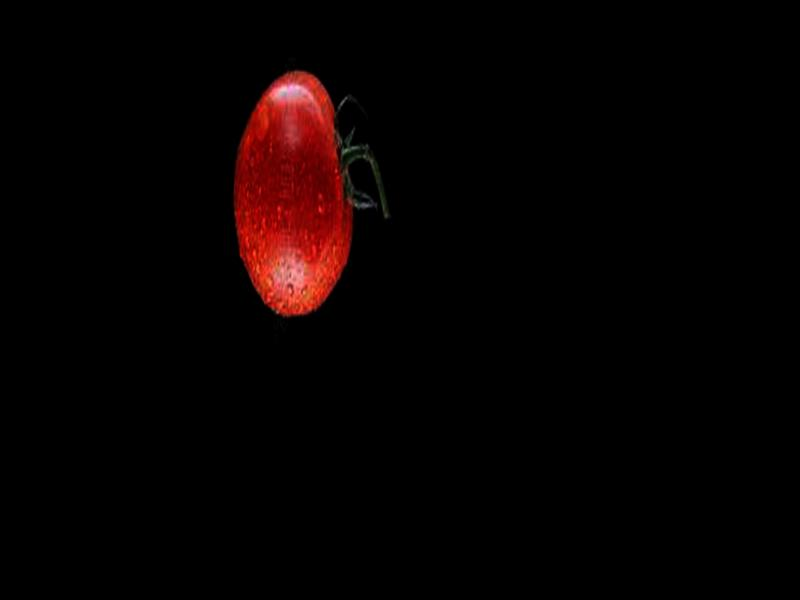Tomato: (227, 68, 360, 320)
